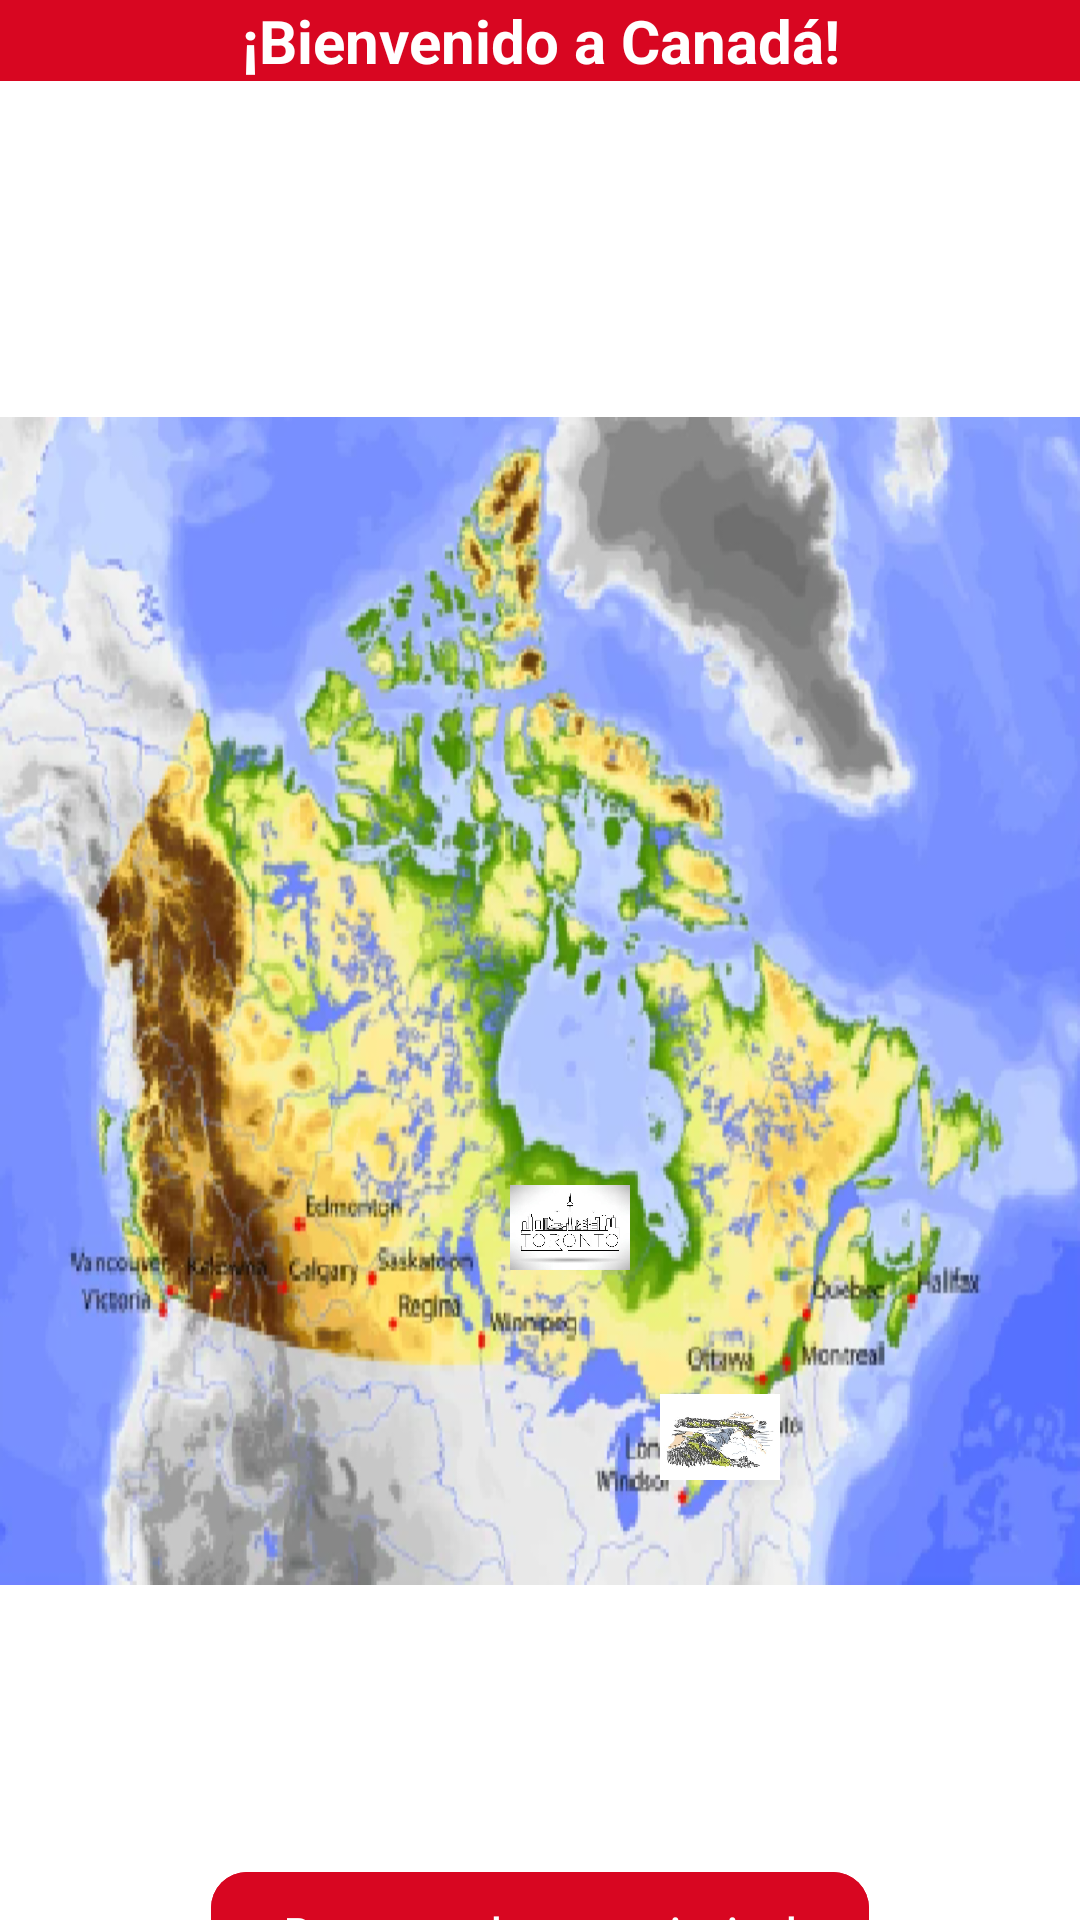

Named icons in this screenshot (1080px x 1920px) and their centers, point (x, y):
niagara: point (720, 1437)
